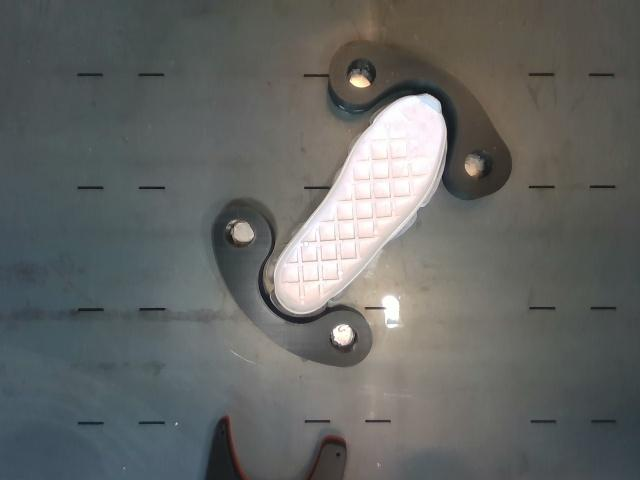shoes: (273, 94, 445, 314)
